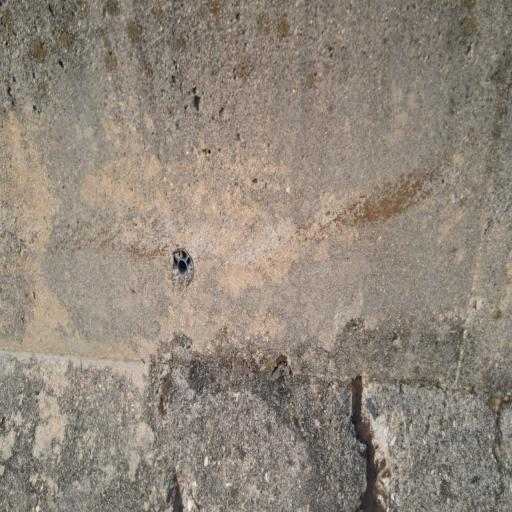exposed_rebar: (351, 375, 384, 512), (165, 471, 184, 512), (208, 0, 220, 16)
